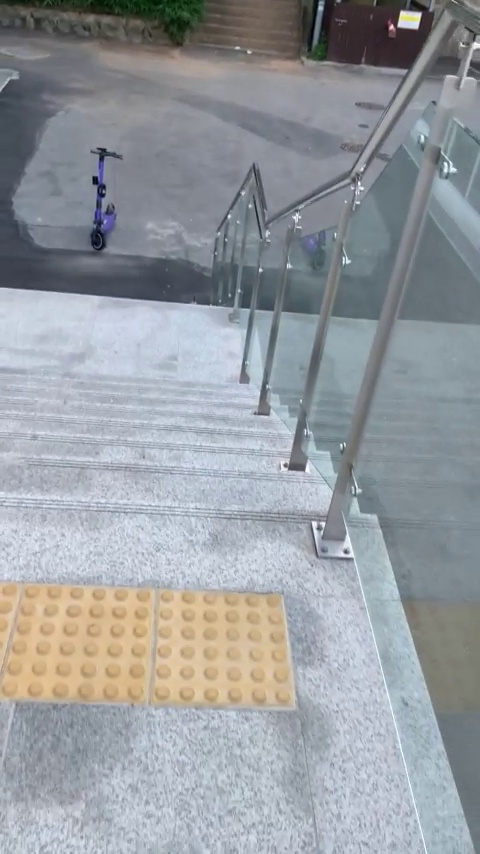beam: (85, 136, 130, 256)
